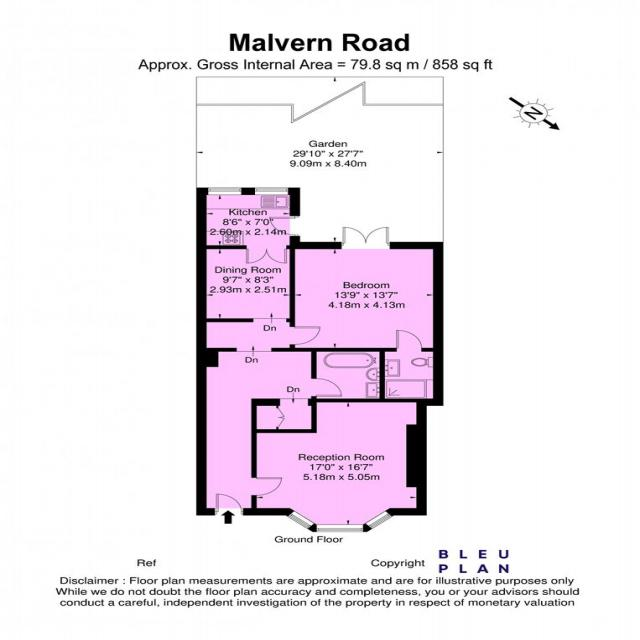DOOR: (251, 476, 283, 497), (395, 329, 424, 352), (215, 493, 243, 516), (268, 216, 300, 236), (289, 326, 321, 346), (311, 378, 343, 398)
DOUBLE DOOR: (341, 226, 390, 249), (246, 245, 288, 264)
ROOM: (196, 245, 343, 516), (251, 398, 427, 532), (288, 226, 442, 352), (196, 187, 300, 264)
WINDOW: (286, 510, 316, 530), (365, 510, 394, 530), (316, 524, 364, 532), (207, 187, 242, 195), (254, 187, 289, 195)
